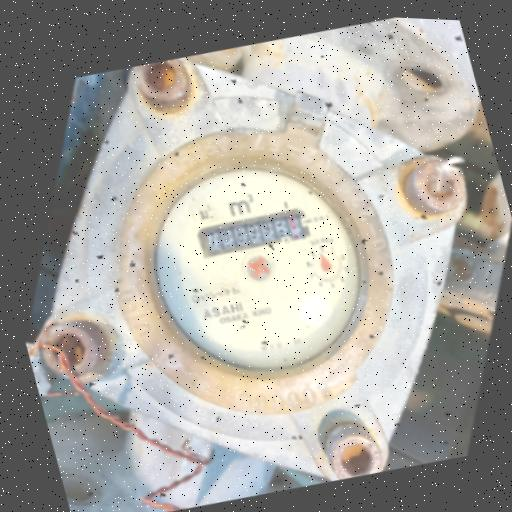5: (274, 215, 288, 237)
7: (205, 229, 222, 251)
8: (287, 213, 302, 240), (220, 226, 234, 249), (234, 224, 248, 246)
9: (246, 220, 261, 243), (260, 217, 275, 240)
border_water_meter_number: (195, 201, 314, 264)
